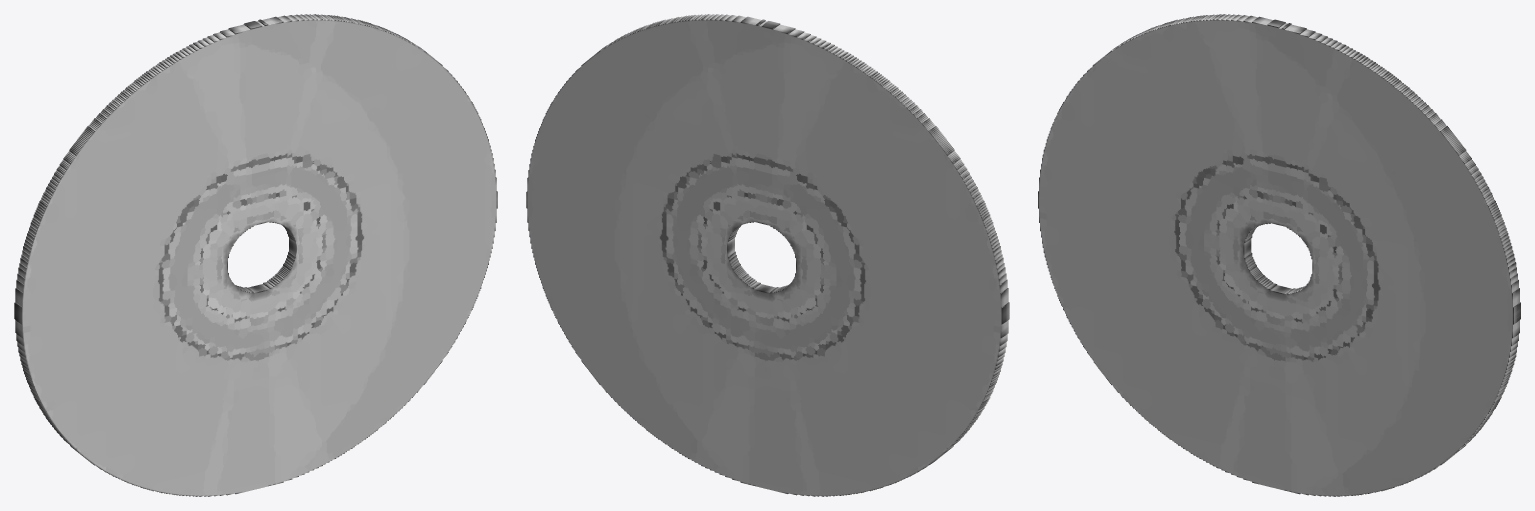
The picture shows the model from 3 angles, left to right: view 1: azimuth 30°, elevation 25°; view 2: azimuth 150°, elevation 25°; view 3: azimuth 330°, elevation 25°; orthographic projection.
Visible parts, largest first — view 1: cd; view 2: cd; view 3: cd.
Part boxes in pixels (<box>): cd: <box>14,14,497,496</box>; cd: <box>526,14,1009,496</box>; cd: <box>1038,14,1520,496</box>.
Bounding box in the file's own units: 78.73 × 73.02 × 2.03.
Materials: 1 (1 with a texture image).
